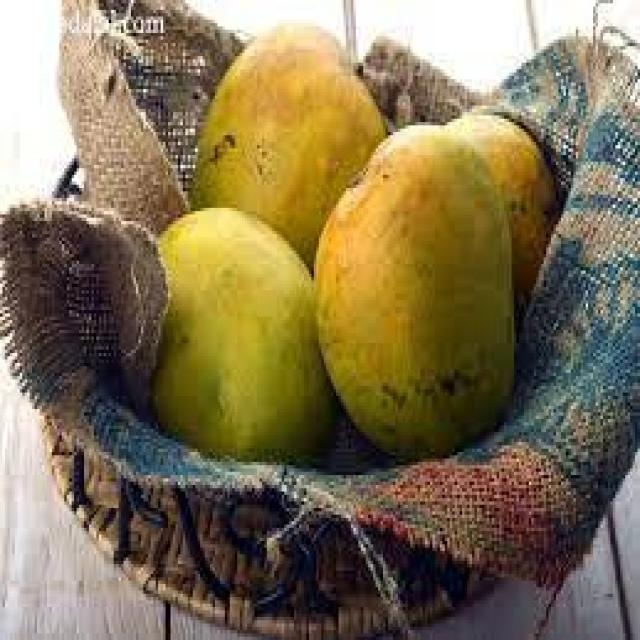mango: (319, 119, 529, 455)
